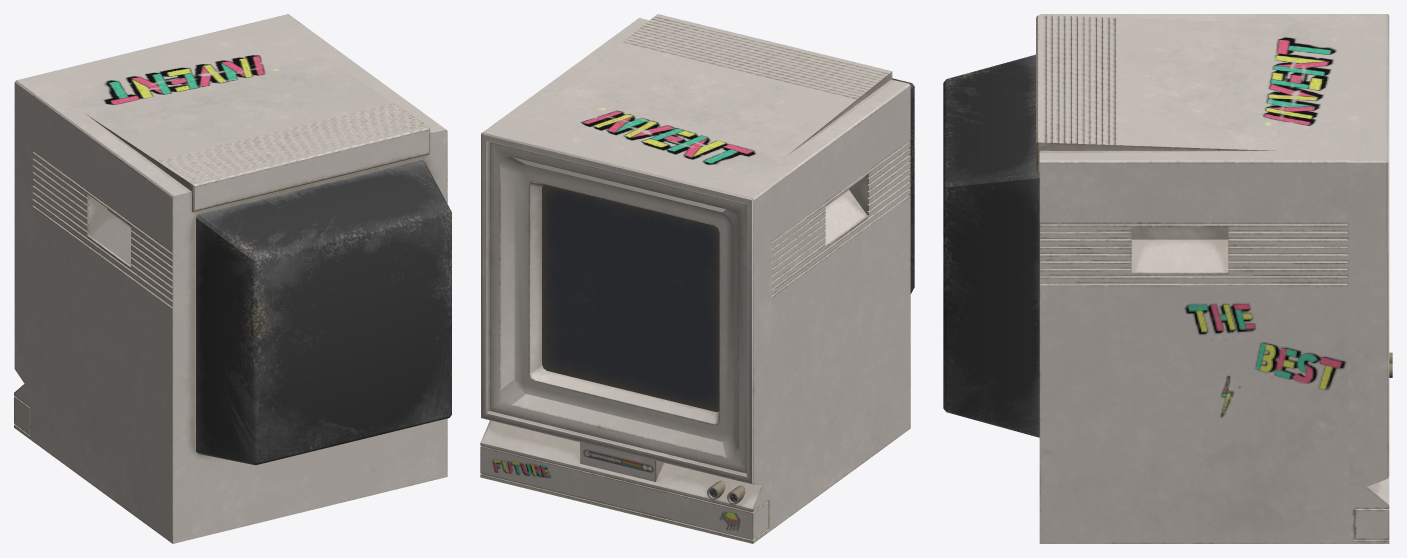
Rendered from monitor.gltf.
3 views of the same model, side by side, from view 1: azimuth 30°, elevation 25°; view 2: azimuth 150°, elevation 25°; view 3: azimuth 270°, elevation 25° (orthographic). The views are drawn at different scales.
Visible parts, largest first — view 1: Mesh_Default_0; view 2: Mesh_Default_0; view 3: Mesh_Default_0.
Boxes of the visible parts, x1=… form: Mesh_Default_0: x1=14, y1=14, x2=451, y2=543; Mesh_Default_0: x1=480, y1=14, x2=914, y2=543; Mesh_Default_0: x1=943, y1=14, x2=1392, y2=543.
Bounding box in the file's own units: 39.48 × 48.72 × 50.7.
1 material, 1 textured.
